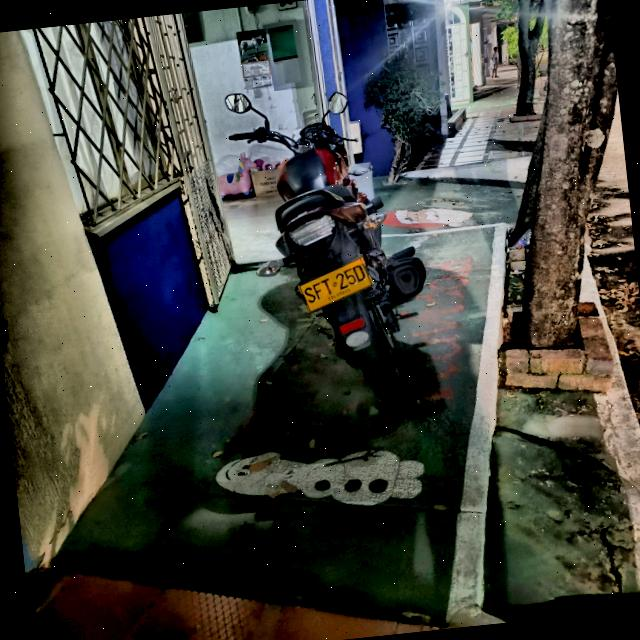plate: (297, 254, 374, 314)
